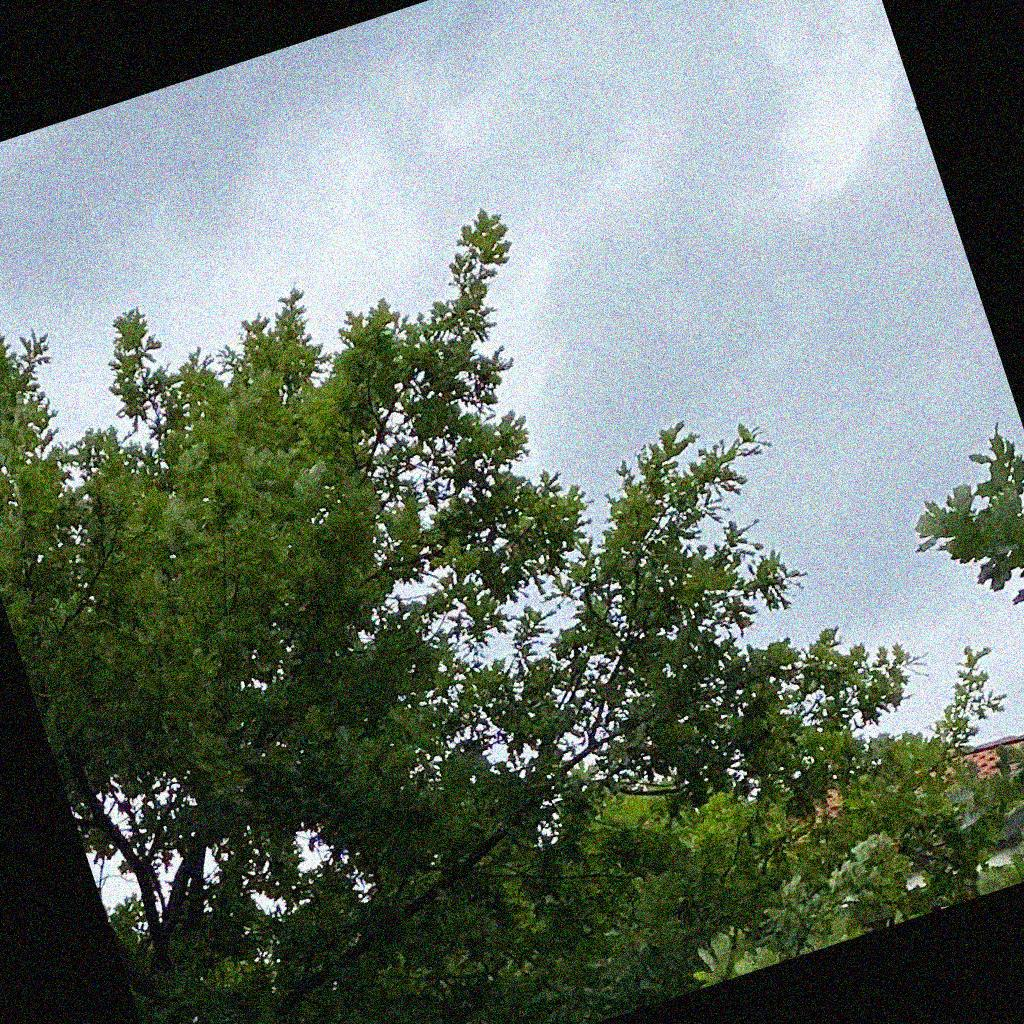tree: (1, 206, 1023, 1023)
